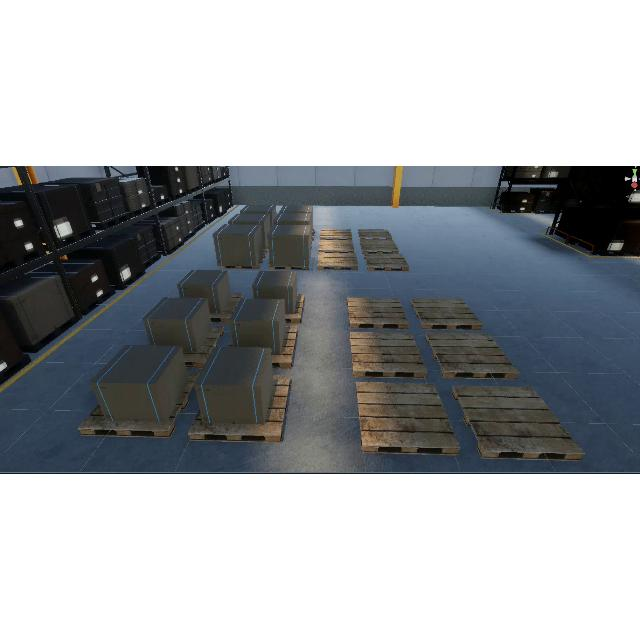wooden_pallet: (451, 387, 588, 462), (79, 371, 199, 438), (355, 383, 461, 456), (188, 376, 292, 442), (424, 333, 519, 380), (349, 333, 427, 379), (411, 298, 485, 332), (347, 298, 410, 330), (184, 325, 224, 369), (272, 326, 297, 369), (218, 252, 266, 269), (364, 254, 409, 271), (317, 252, 358, 270), (283, 293, 305, 324), (360, 240, 398, 255), (318, 240, 354, 253), (358, 229, 392, 240), (321, 229, 352, 240), (268, 266, 309, 270)
